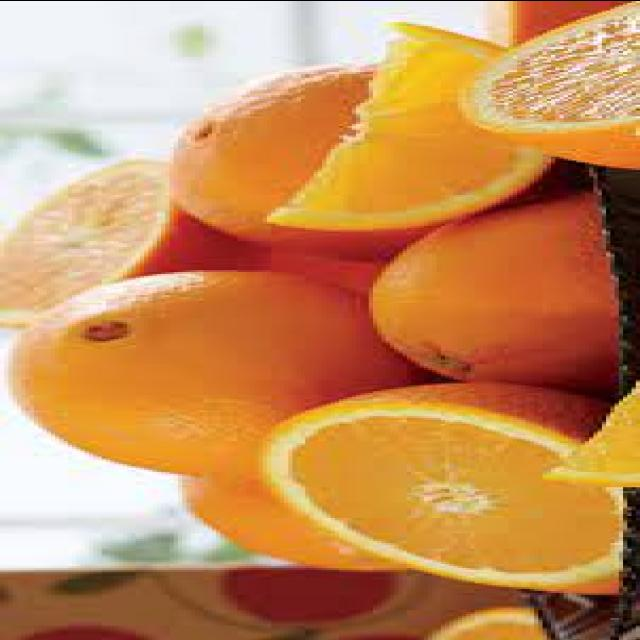orange: (32, 268, 374, 472)
